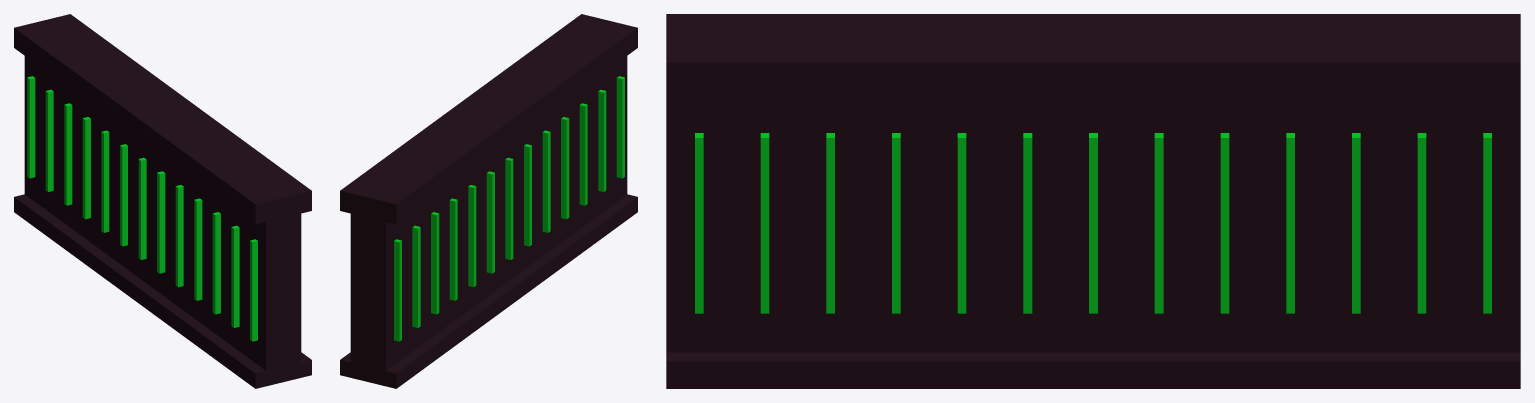
Rendered from SeparadorLVL1.fbx.
The picture shows the model from 3 angles, left to right: view 1: azimuth 30°, elevation 25°; view 2: azimuth 150°, elevation 25°; view 3: azimuth 270°, elevation 25°; orthographic projection. The views are drawn at different scales.
Parts seen in each view (by area): view 1: Cube.001; view 2: Cube.001; view 3: Cube.001.
Boxes of the visible parts, x1=… form: Cube.001: x1=14, y1=14, x2=311, y2=388; Cube.001: x1=340, y1=14, x2=637, y2=388; Cube.001: x1=666, y1=14, x2=1520, y2=388.
Size of the model in its own units: 200 by 626 by 1486.
